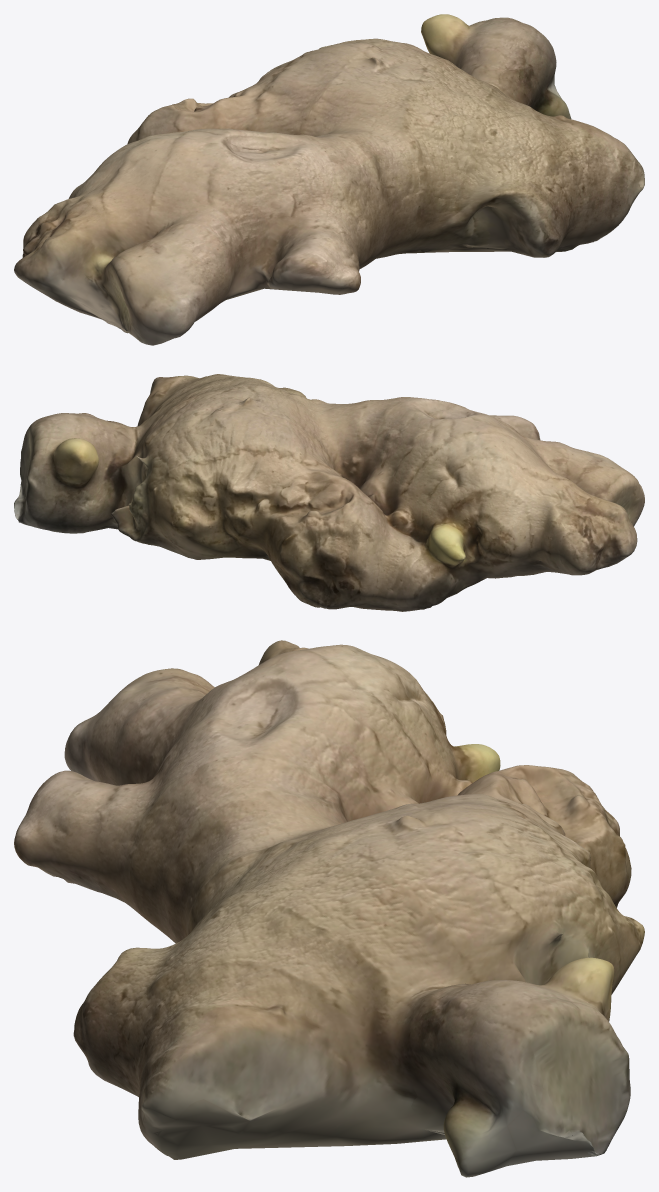
File: subject2.glb
3 views of the same model, one above another, from view 1: azimuth 30°, elevation 25°; view 2: azimuth 150°, elevation 25°; view 3: azimuth 270°, elevation 25° (orthographic). The views are drawn at different scales.
Parts seen in each view (by area): view 1: Node1; view 2: Node1; view 3: Node1.
Boxes of the visible parts, bbox=[...] form: Node1: bbox=[14, 14, 644, 345]; Node1: bbox=[14, 374, 644, 611]; Node1: bbox=[14, 640, 644, 1177].
Size of the model in its own units: 0.9442 by 0.2464 by 0.5708.
Materials: 1 (1 with a texture image).
